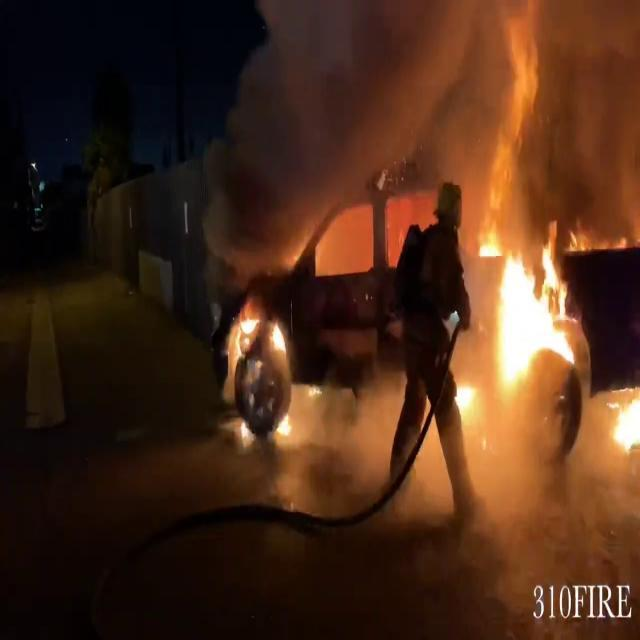Fire: (470, 225, 580, 402), (228, 300, 289, 362), (606, 378, 640, 456), (454, 372, 478, 426), (272, 408, 296, 443)
Smoke: (200, 0, 640, 260)
